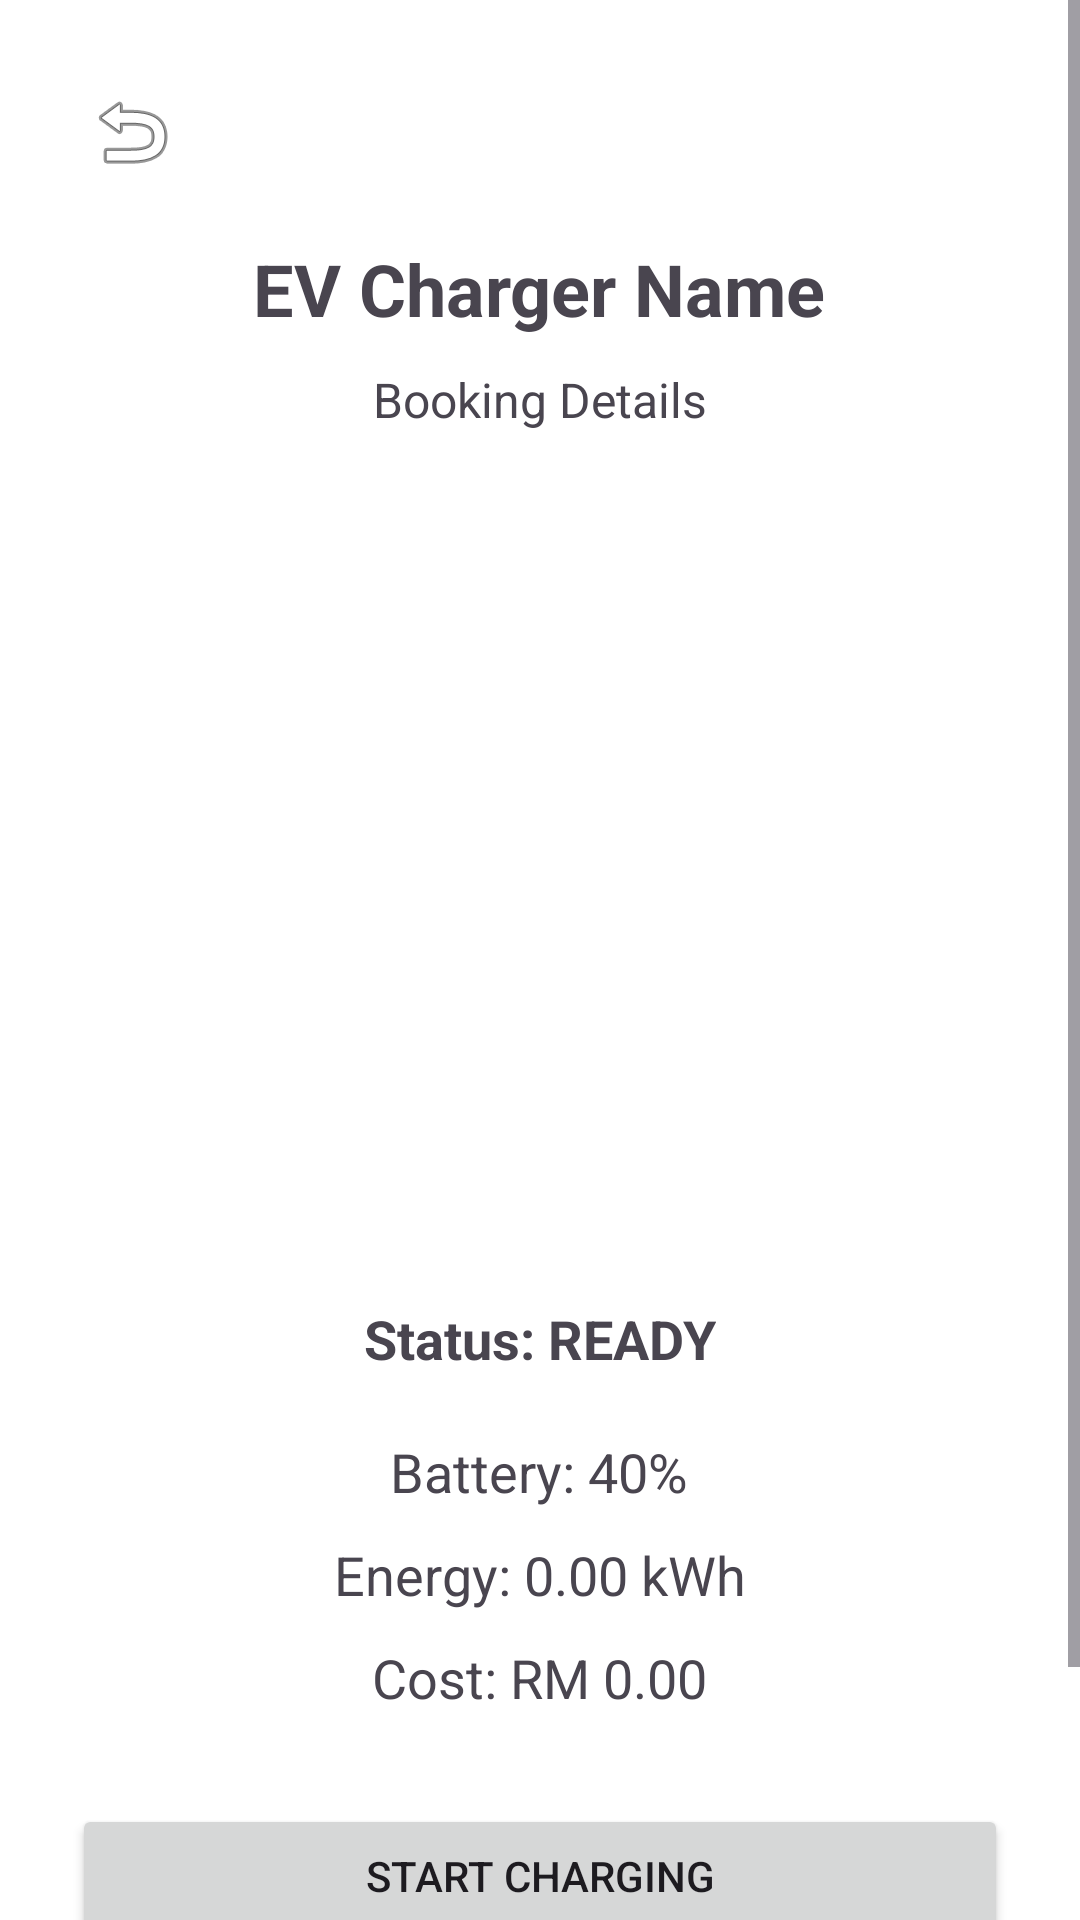

Icon click points for this 1080px×1920px phone screenshot, format (x,y):
Back: (133,132)
